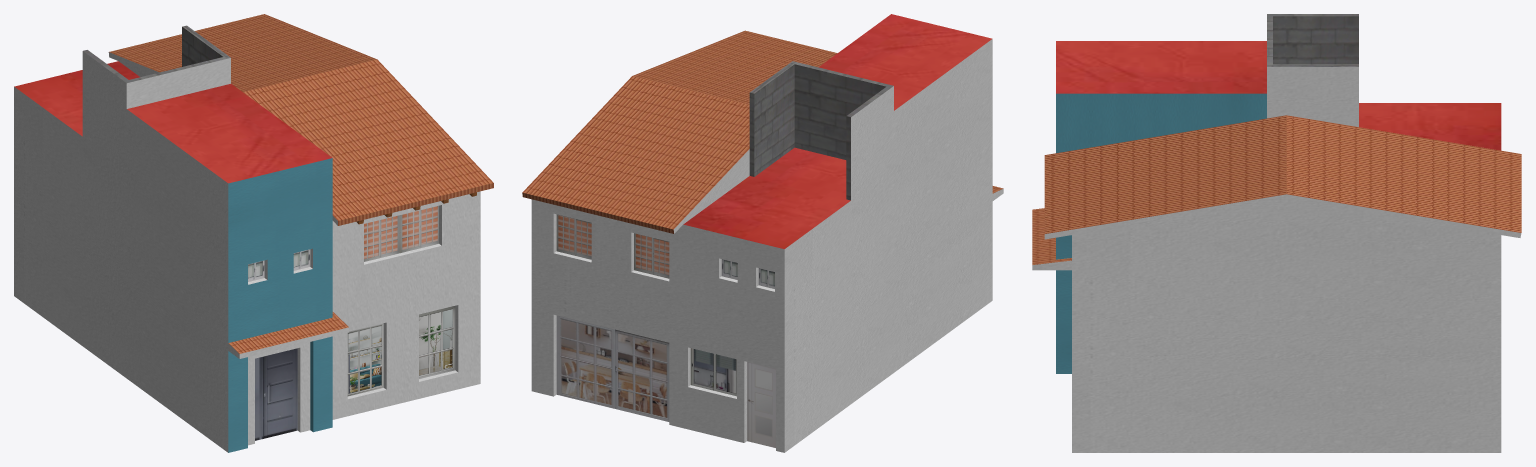
The model's file is mx_res_1x2.fbx.
3 views of the same model, side by side, from view 1: azimuth 30°, elevation 25°; view 2: azimuth 150°, elevation 25°; view 3: azimuth 270°, elevation 25° (orthographic). The views are drawn at different scales.
Parts seen in each view (by area): view 1: Model; view 2: Model; view 3: Model.
Part boxes in pixels (box(x1,y1,x2,y2)): Model: box(14, 14, 493, 452); Model: box(522, 14, 1003, 452); Model: box(1032, 14, 1521, 452).
Size of the model in its own units: 8 by 12.53 by 8.68.
